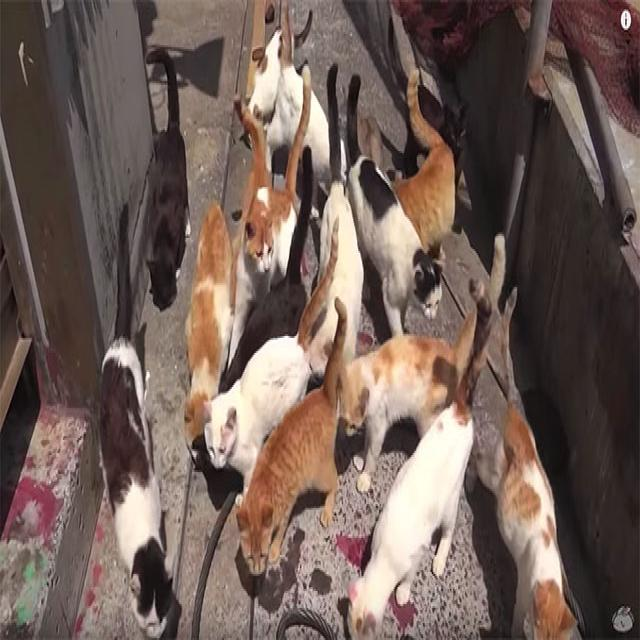cat: (350, 283, 492, 636), (476, 288, 579, 638), (204, 224, 338, 492), (101, 205, 174, 636), (236, 301, 345, 575), (342, 309, 476, 490), (348, 76, 441, 334), (228, 73, 311, 362), (220, 146, 312, 391), (310, 64, 364, 374), (184, 201, 235, 461), (146, 47, 190, 308), (394, 68, 455, 256), (266, 28, 302, 157), (235, 99, 271, 221), (419, 85, 466, 178), (249, 28, 281, 122), (304, 92, 329, 181), (488, 234, 505, 308), (241, 132, 250, 145)
